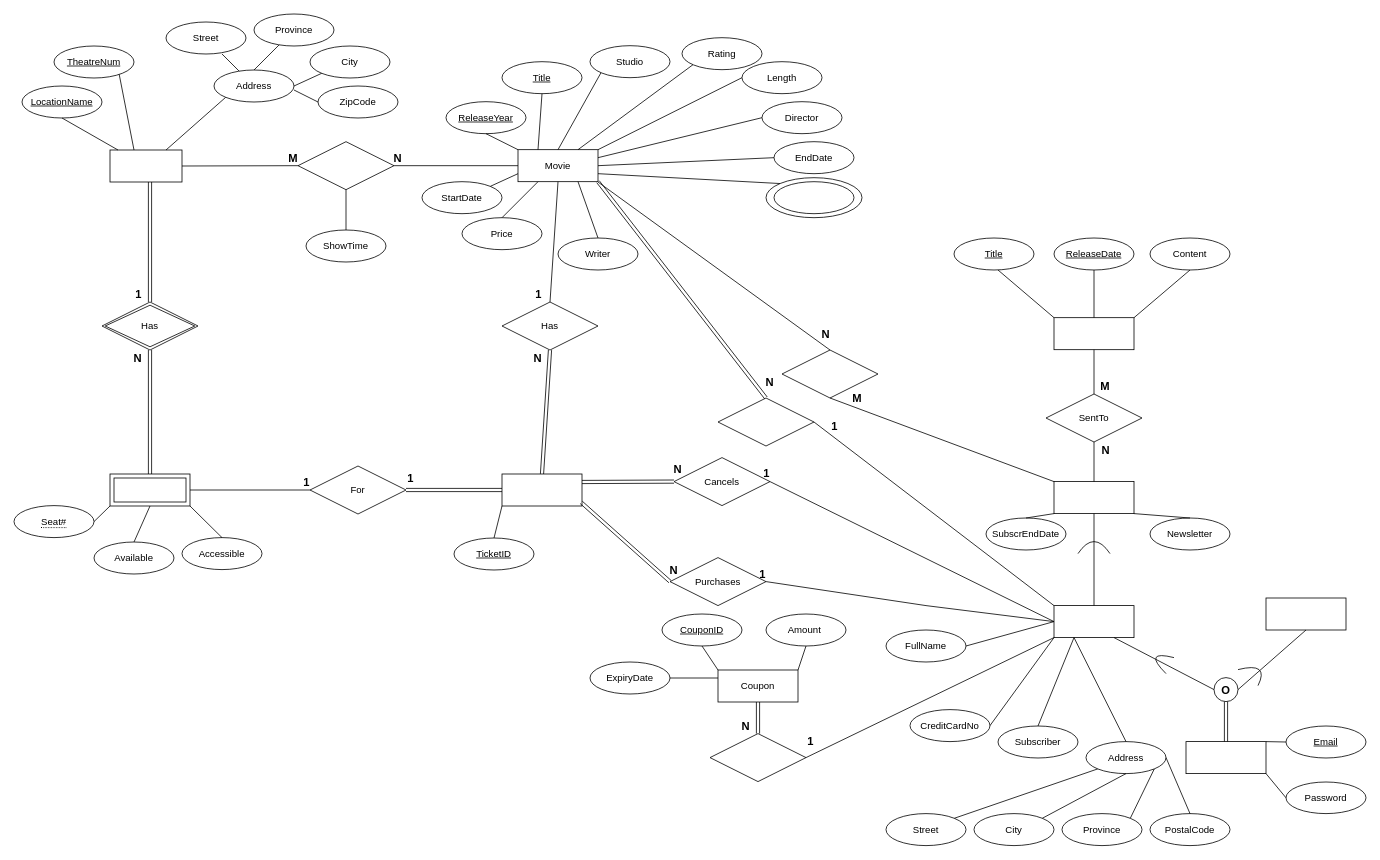
Some shapes in this 1380 by 860 pixel diagram are drawn without their labels. The shapes that lost their labels are listed below. From the top down, each one's box as (x1, y1, x2, y2) in pixels, then its label:
(109, 149, 182, 182): Theater
(297, 141, 394, 190): Shows
(773, 181, 854, 214): Starring
(1053, 317, 1134, 350): Newletter
(781, 349, 878, 398): HasFav
(717, 397, 814, 446): HasWatched
(109, 473, 190, 506): Seat
(501, 473, 582, 506): Ticket
(1053, 481, 1134, 514): SubscrCust
(1053, 605, 1134, 638): Customer
(1265, 597, 1346, 630): Administrator
(709, 733, 806, 782): RefundedTo
(1185, 741, 1266, 774): User
